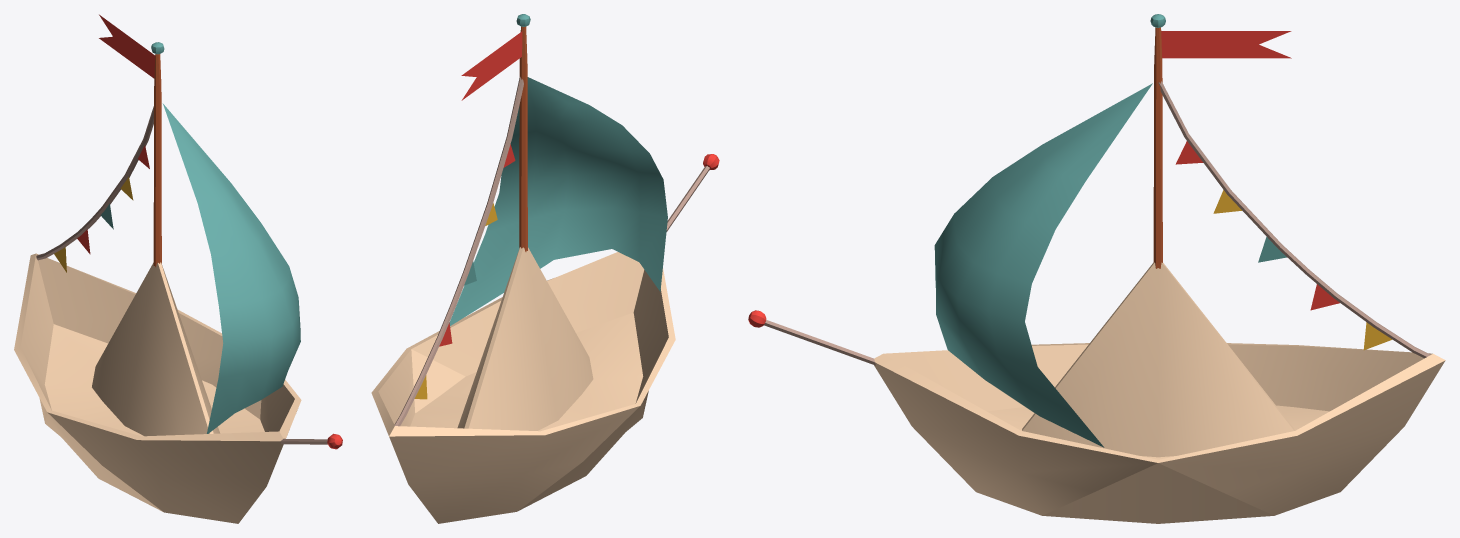
Rendered from Mesh_Boat (2).fbx.
3 views of the same model, side by side, from view 1: azimuth 30°, elevation 25°; view 2: azimuth 150°, elevation 25°; view 3: azimuth 270°, elevation 25° (orthographic). The views are drawn at different scales.
Visible parts, largest first — view 1: Cylinder.005; view 2: Cylinder.005; view 3: Cylinder.005.
Boxes of the visible parts, bbox=[...] form: Cylinder.005: bbox=[14, 14, 342, 523]; Cylinder.005: bbox=[371, 14, 719, 523]; Cylinder.005: bbox=[748, 14, 1445, 523].
Bounding box in the file's own units: 358 × 662 × 864.
